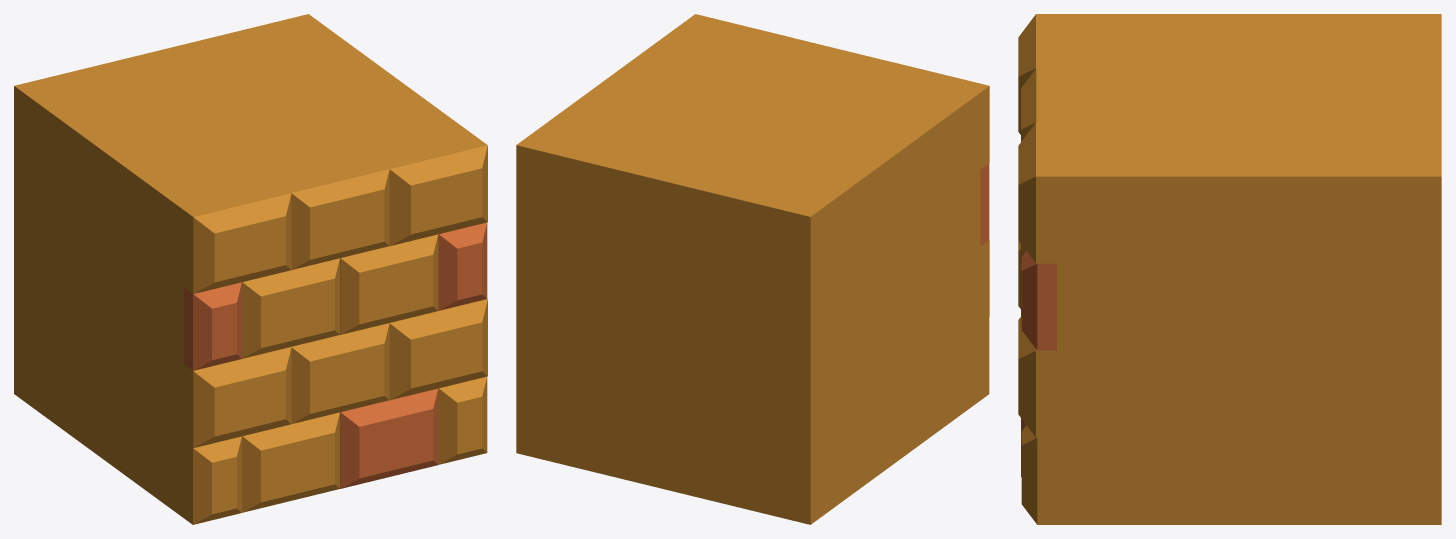
Rendered from towerwall.fbx.
The picture shows the model from 3 angles, left to right: view 1: azimuth 30°, elevation 25°; view 2: azimuth 150°, elevation 25°; view 3: azimuth 270°, elevation 25°; orthographic projection. The views are drawn at different scales.
Parts seen in each view (by area): view 1: Plane.008; view 2: Plane.008; view 3: Plane.008.
Boxes of the visible parts, x1,y1,x2,y2 form: Plane.008: (14, 14, 487, 524); Plane.008: (516, 14, 989, 524); Plane.008: (1018, 14, 1441, 524).
Size of the model in its own units: 200 by 200 by 220.
